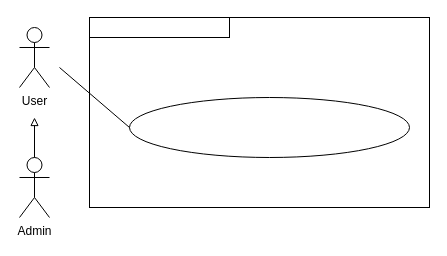
Some shapes in this 447 by 256 pixel diagram are drawn without their labels. The shapes that lost their labels are listed below. From the top down, each one's box as (x1, y1, x2, y2) in pixels, then its label:
(88, 16, 230, 38): UC8
(128, 96, 410, 158): UC8.1 Ricerca per vista "Catalogo prodotti"
